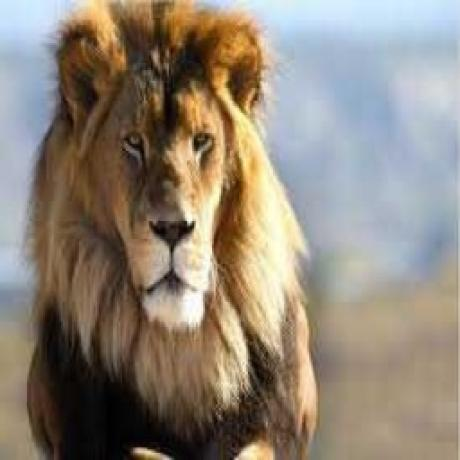Lion: (25, 0, 320, 460)
